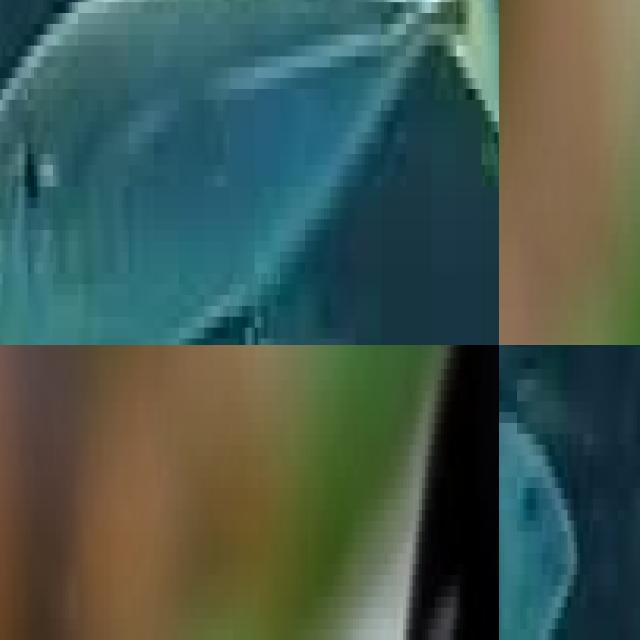fish: (0, 0, 499, 345), (0, 345, 226, 640), (499, 0, 640, 345)
